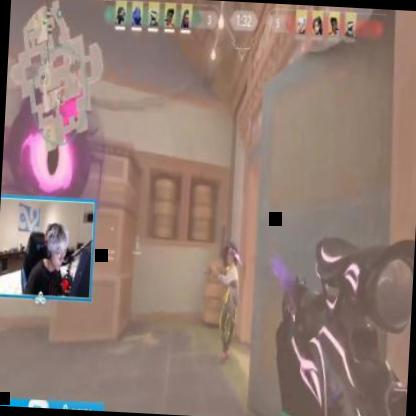enemy: (212, 248, 242, 362)
enemy_head: (225, 248, 235, 267)
